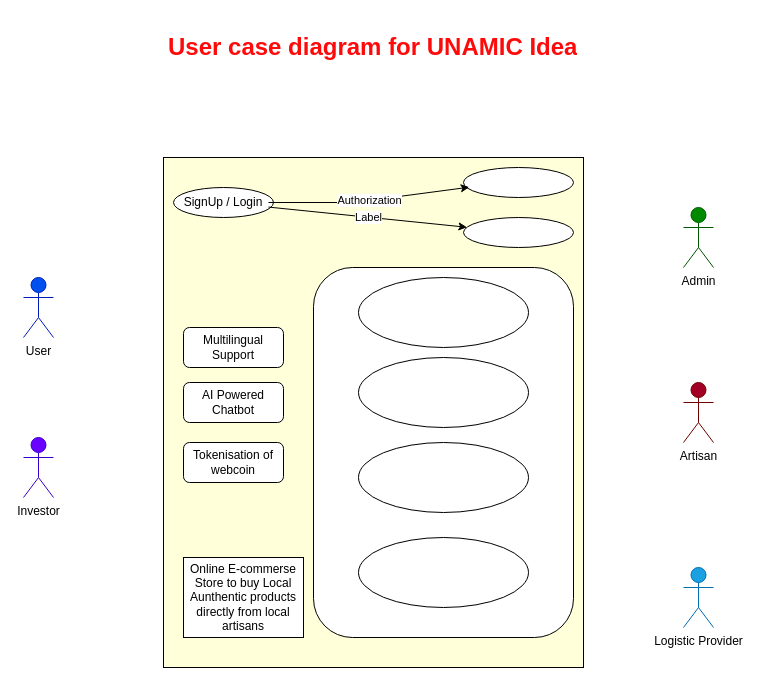
This 760x685 diagram has some shape labels left out. The shapes that lost their labels are listed below. From the top down, each one's box as (x1, y1, x2, y2) in pixels, then its label:
(462, 166, 574, 198): Verify Password
(462, 216, 574, 248): System login Error
